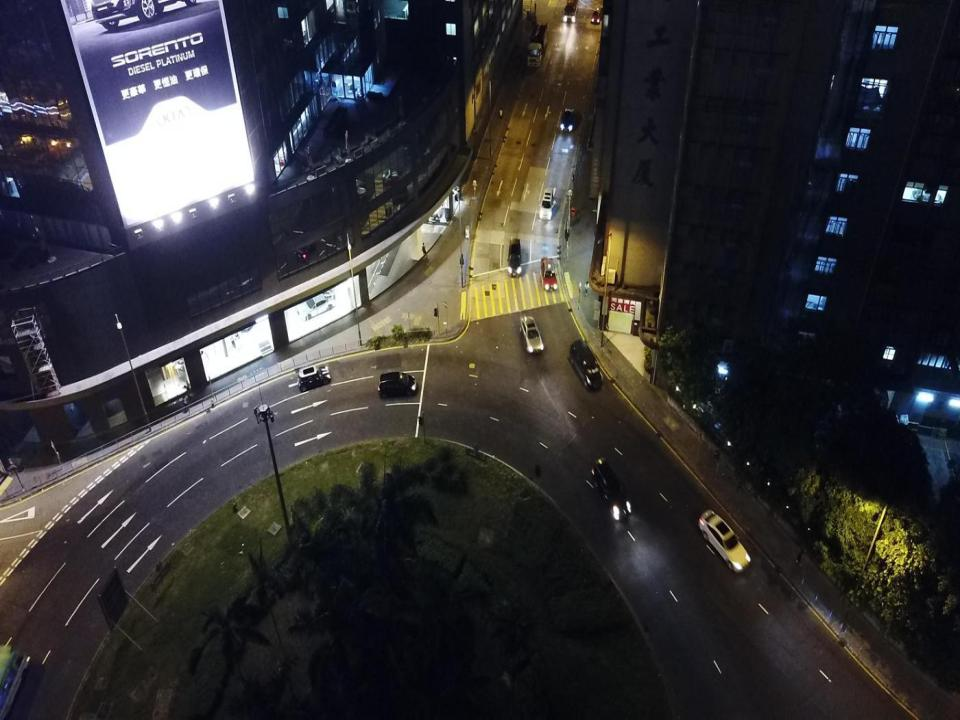bus: (0, 644, 32, 716)
car: (699, 509, 749, 572), (592, 456, 631, 520), (378, 370, 416, 400), (298, 364, 331, 395), (519, 313, 543, 353), (540, 257, 558, 291), (590, 6, 605, 24), (561, 108, 573, 130)
truck: (527, 22, 548, 67), (564, 0, 580, 21)
van: (570, 340, 603, 391), (507, 238, 522, 277), (540, 188, 553, 219)
